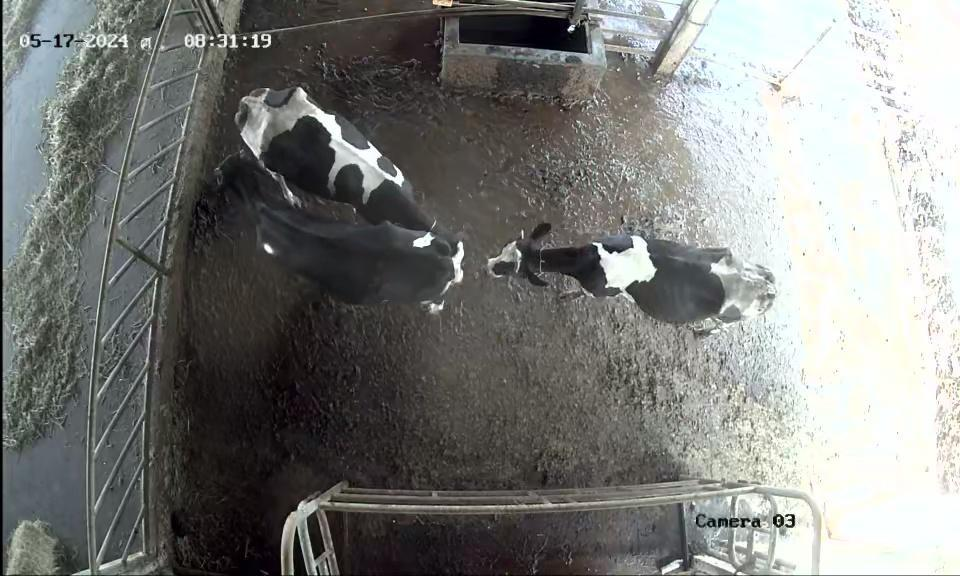stand: (234, 86, 464, 292), (218, 155, 461, 312), (487, 222, 777, 335)
